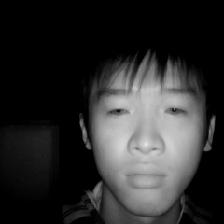normal: (82, 43, 219, 215)
